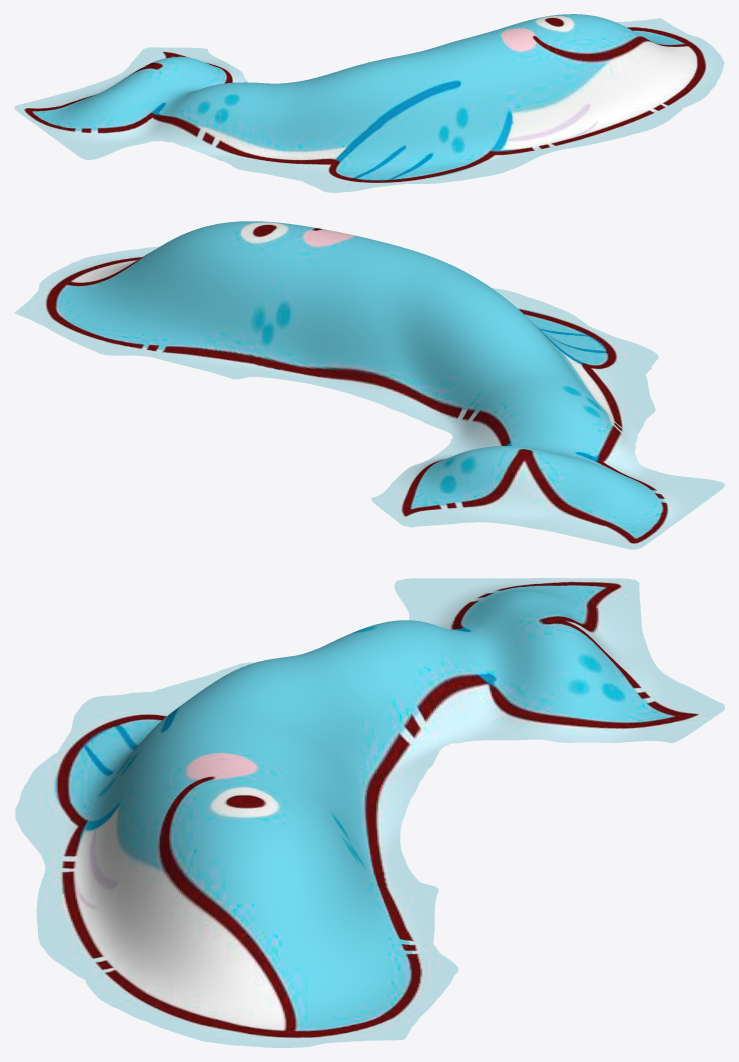
Rendered from 泡泡贴纸16.fbx.
3 renders of one model, top to bottom at view 1: azimuth 30°, elevation 25°; view 2: azimuth 150°, elevation 25°; view 3: azimuth 270°, elevation 25°, orthographic. The views are drawn at different scales.
Visible parts, largest first — view 1: 平面.001; view 2: 平面.001; view 3: 平面.001.
Part boxes in pixels (box(x1,y1,x2,y2)): 平面.001: box(14, 14, 724, 192); 平面.001: box(14, 221, 724, 549); 平面.001: box(15, 578, 724, 1047).
Bounding box in the file's own units: 293 × 33.87 × 187.
